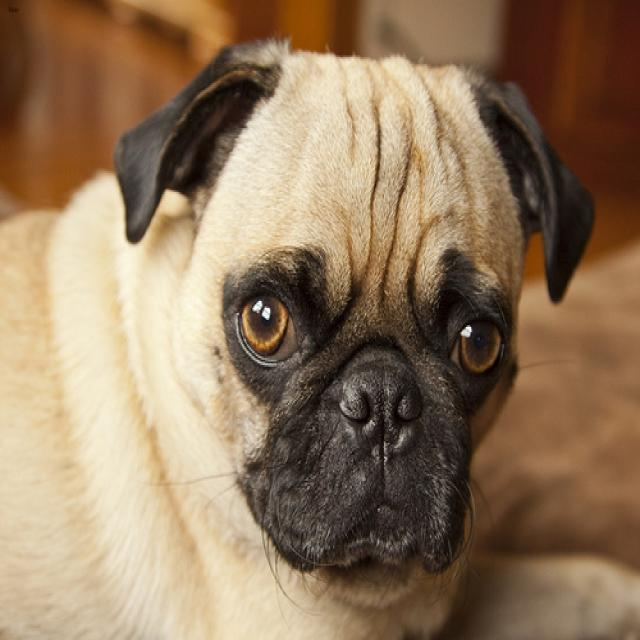dog-pug: (1, 31, 637, 637)
